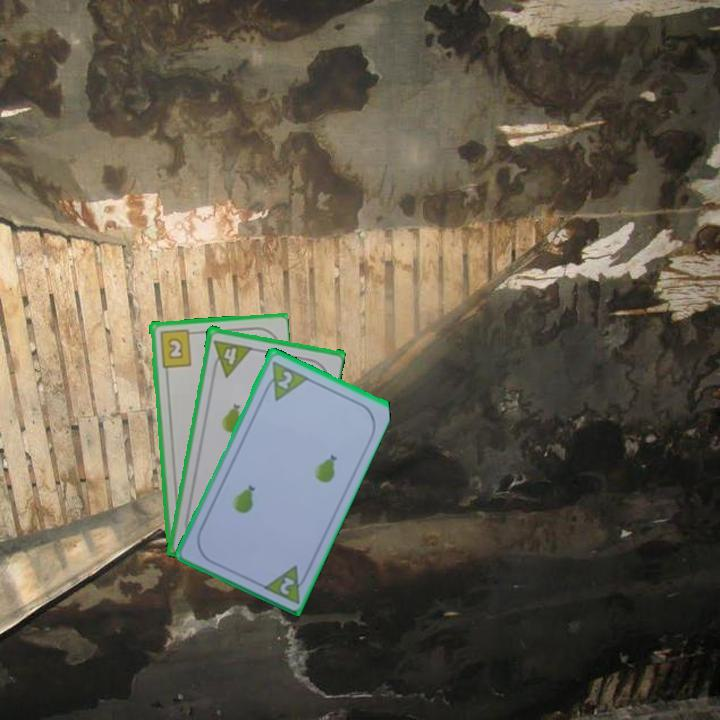2b: (156, 326, 198, 370)
2p: (274, 367, 295, 392), (276, 573, 297, 598)
4p: (208, 336, 254, 379)
